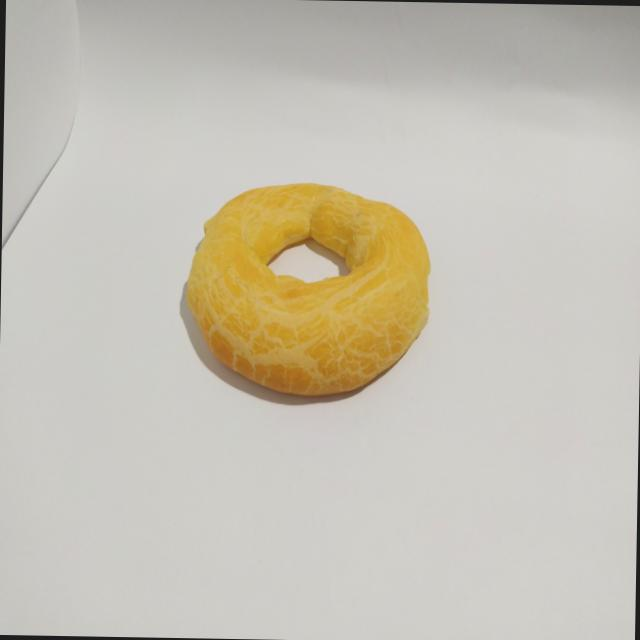Chipa: (170, 170, 442, 418)
